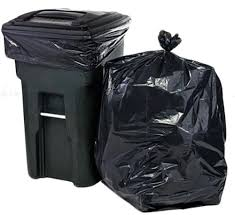Trash: (97, 33, 228, 210)
